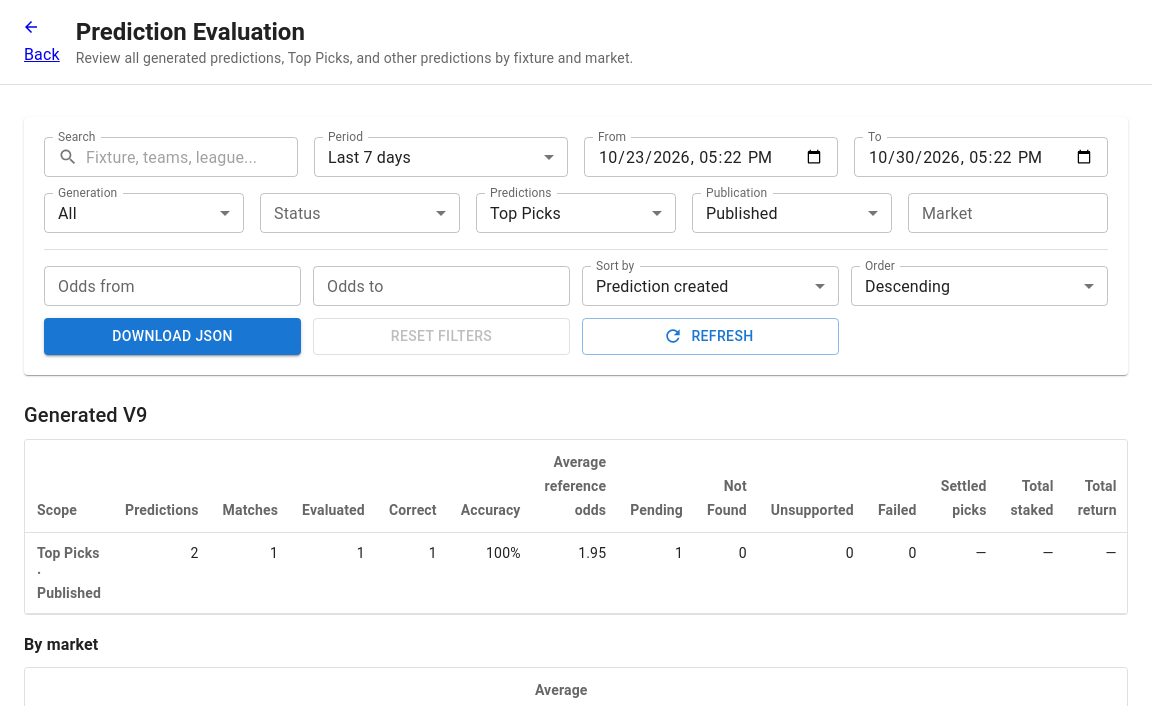
Test: PredictionEvaluationsPage › hides previous totals while a changed scope loads and when that request fails
Expected: the table named "Generated V9 summary" is shown, left=25, top=440, right=1128, bottom=614
Press the mouse on the dropdown named "Predictions" at (525, 213), box left=490, top=204, right=561, bottom=222
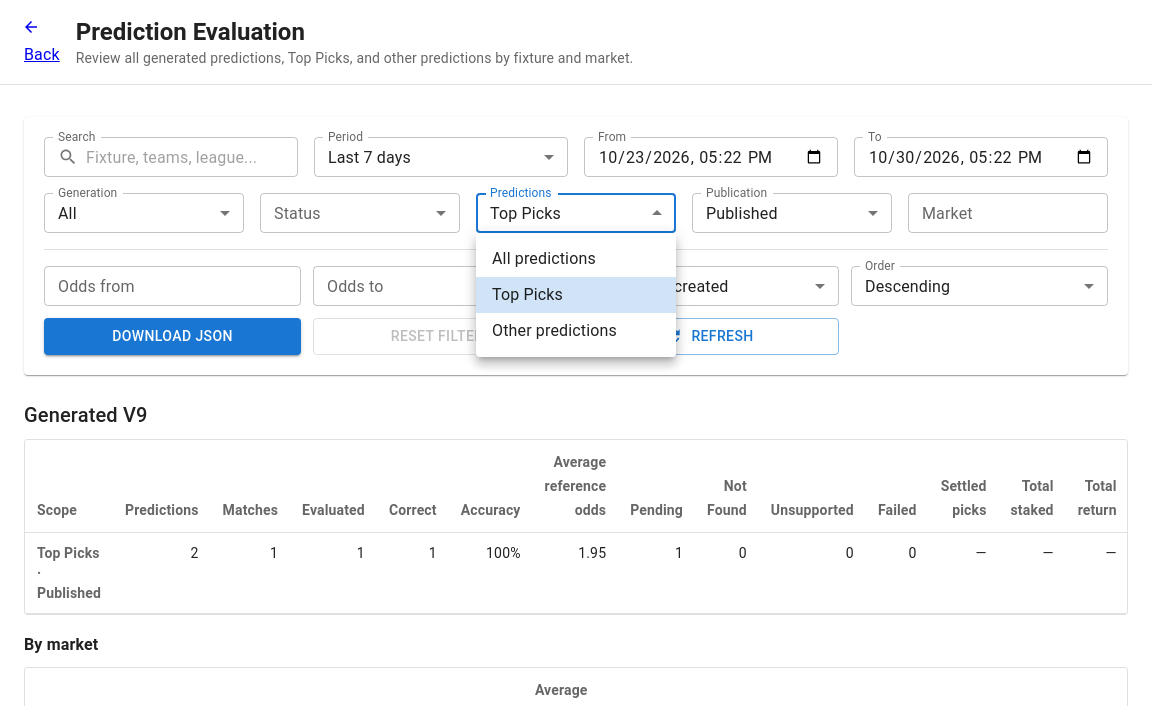
Click the option "All predictions" at (544, 258), box left=492, top=249, right=596, bottom=268
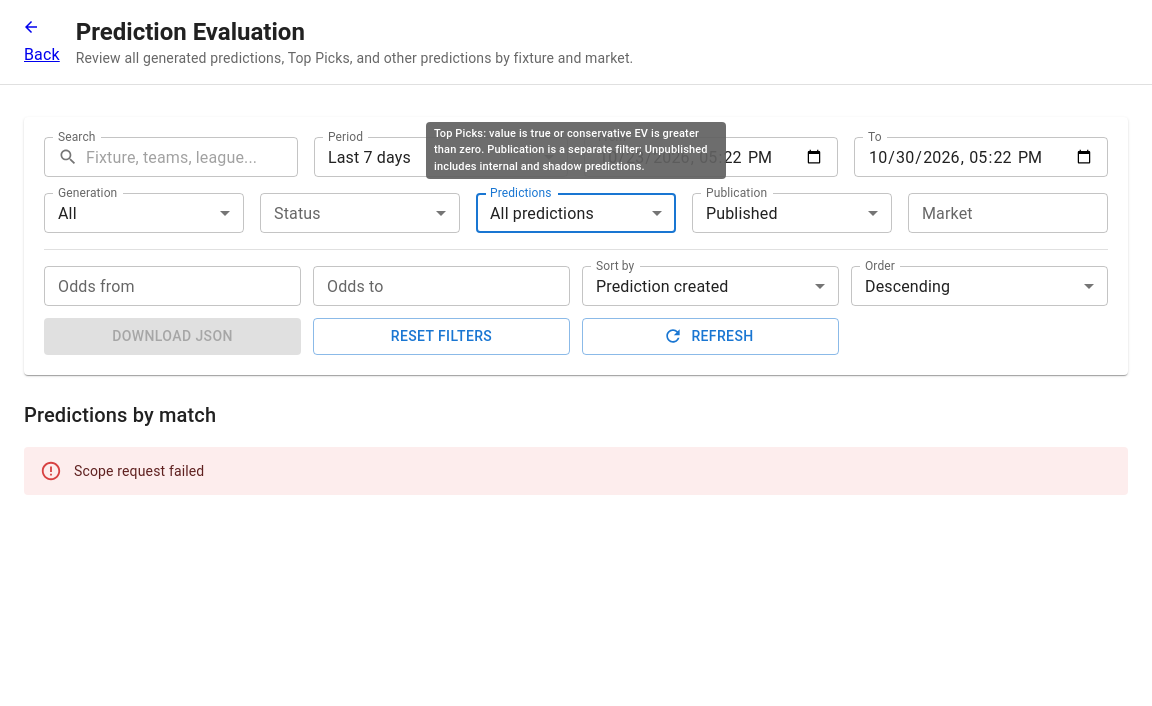
Now the text "Scope request failed" is shown, box left=74, top=462, right=204, bottom=478
